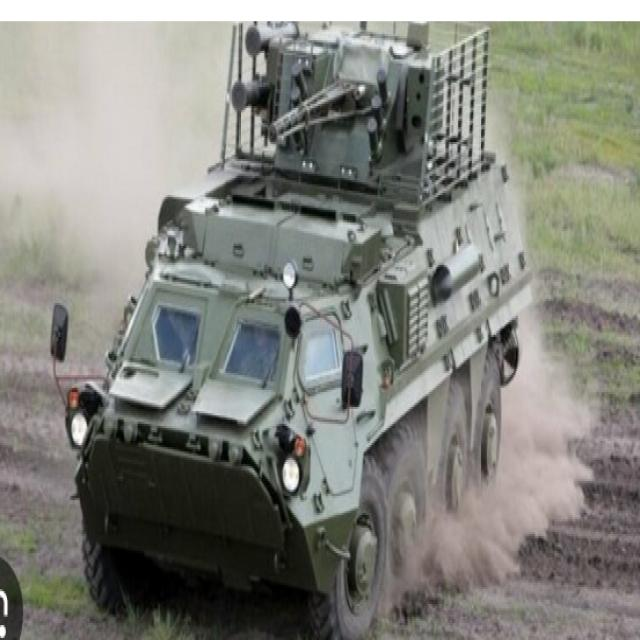MIL_APC: (69, 0, 576, 640)
